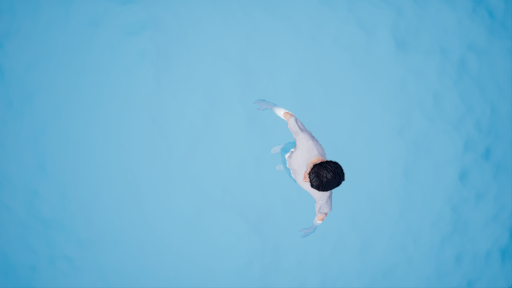person: (259, 105, 351, 235)
